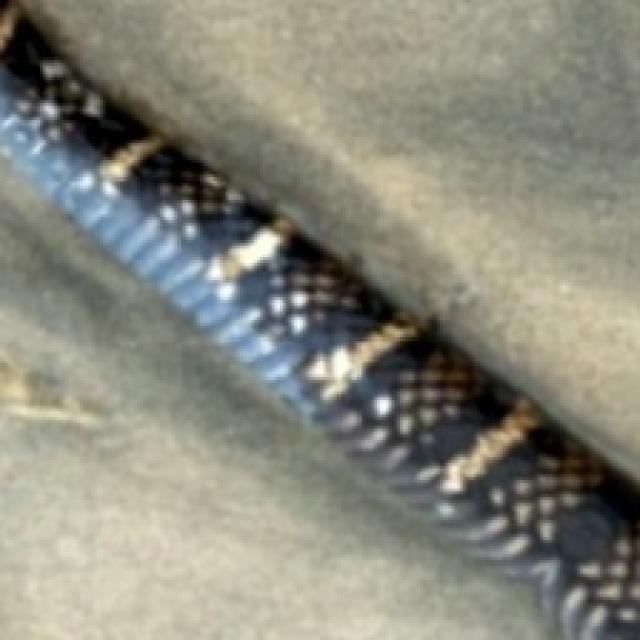king cobra: (0, 20, 637, 637), (0, 349, 97, 429)
